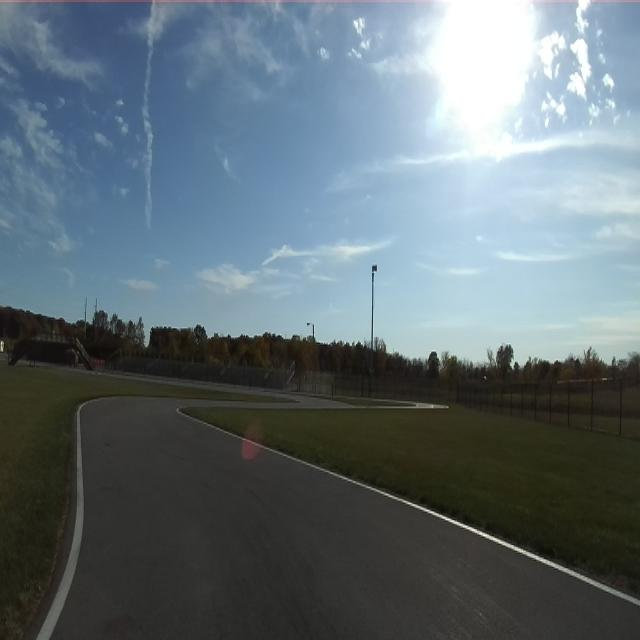white-line: (242, 438, 640, 606), (36, 403, 86, 639), (176, 408, 243, 439)
